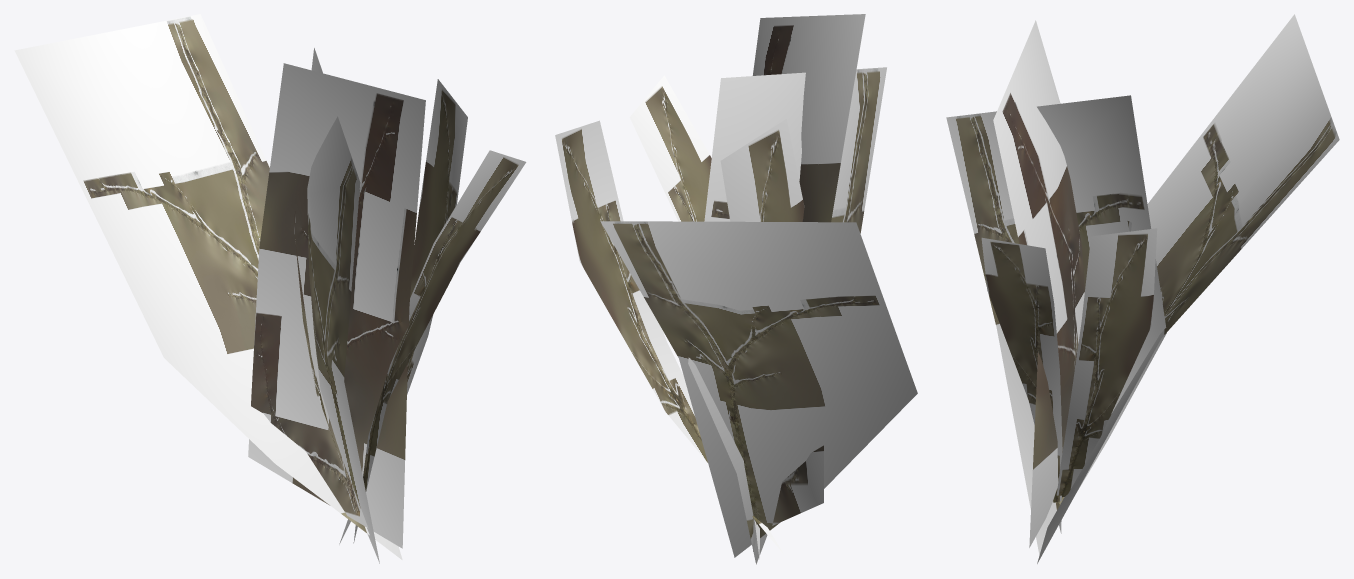
The model's file is Bush5.fbx.
3 renders of one model, left to right at view 1: azimuth 30°, elevation 25°; view 2: azimuth 150°, elevation 25°; view 3: azimuth 270°, elevation 25°, orthographic. The views are drawn at different scales.
Parts seen in each view (by area): view 1: LOD0; view 2: LOD0; view 3: LOD0.
Part boxes in pixels (x1,y1,x2,y2): LOD0: (14, 14, 526, 563); LOD0: (555, 14, 917, 564); LOD0: (946, 14, 1339, 563).
Size of what is drawn, in the model's own units: 139 by 200 by 145.
